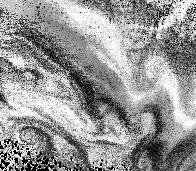CE: (12, 119, 50, 148)
